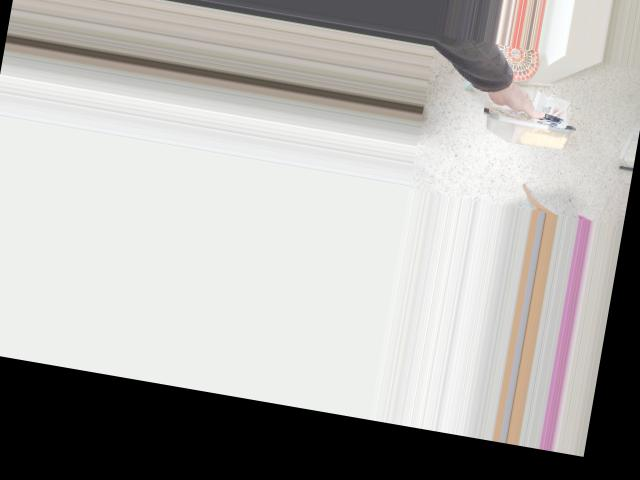cheese: (472, 51, 584, 160)
